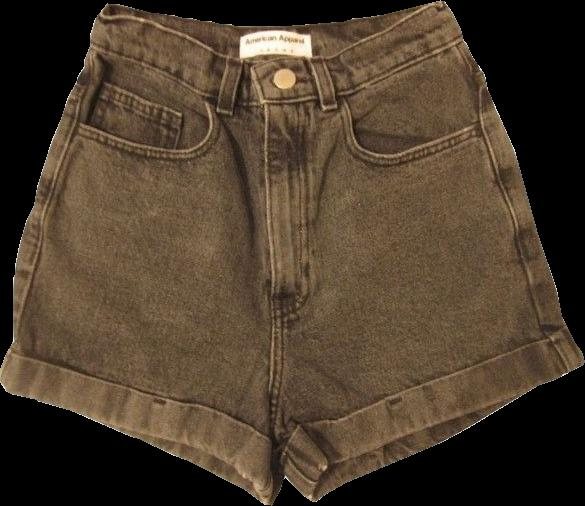Hemline: (308, 361, 584, 501), (0, 382, 271, 504)
Pantleg: (267, 1, 584, 501), (0, 4, 281, 504)
Waistline: (88, 36, 463, 103), (100, 1, 443, 62)
